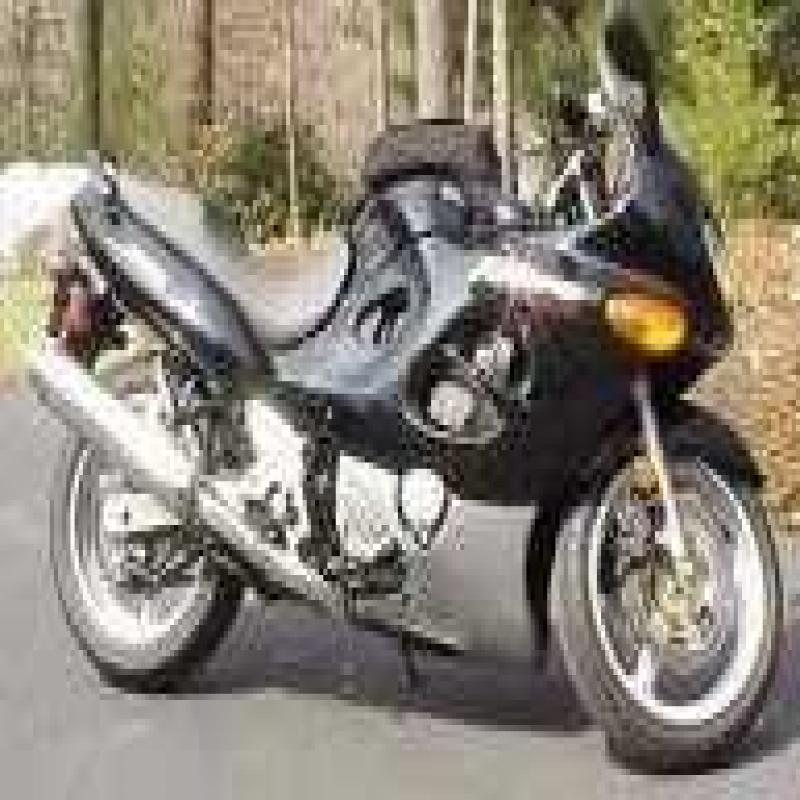bike: (17, 0, 786, 764)
